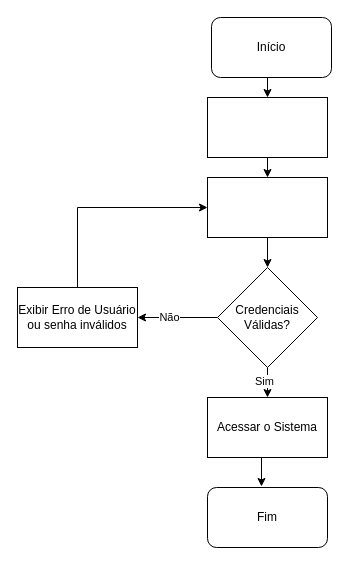
The diagram is 349 pixels wide and 565 high, and some of its shapes have lost their labels. The centre of each missing label's shape, as x and y in pixels:
Abrir Checkout NFCe: the point at 267,127
Informar Usuário e Senha: the point at 267,207
